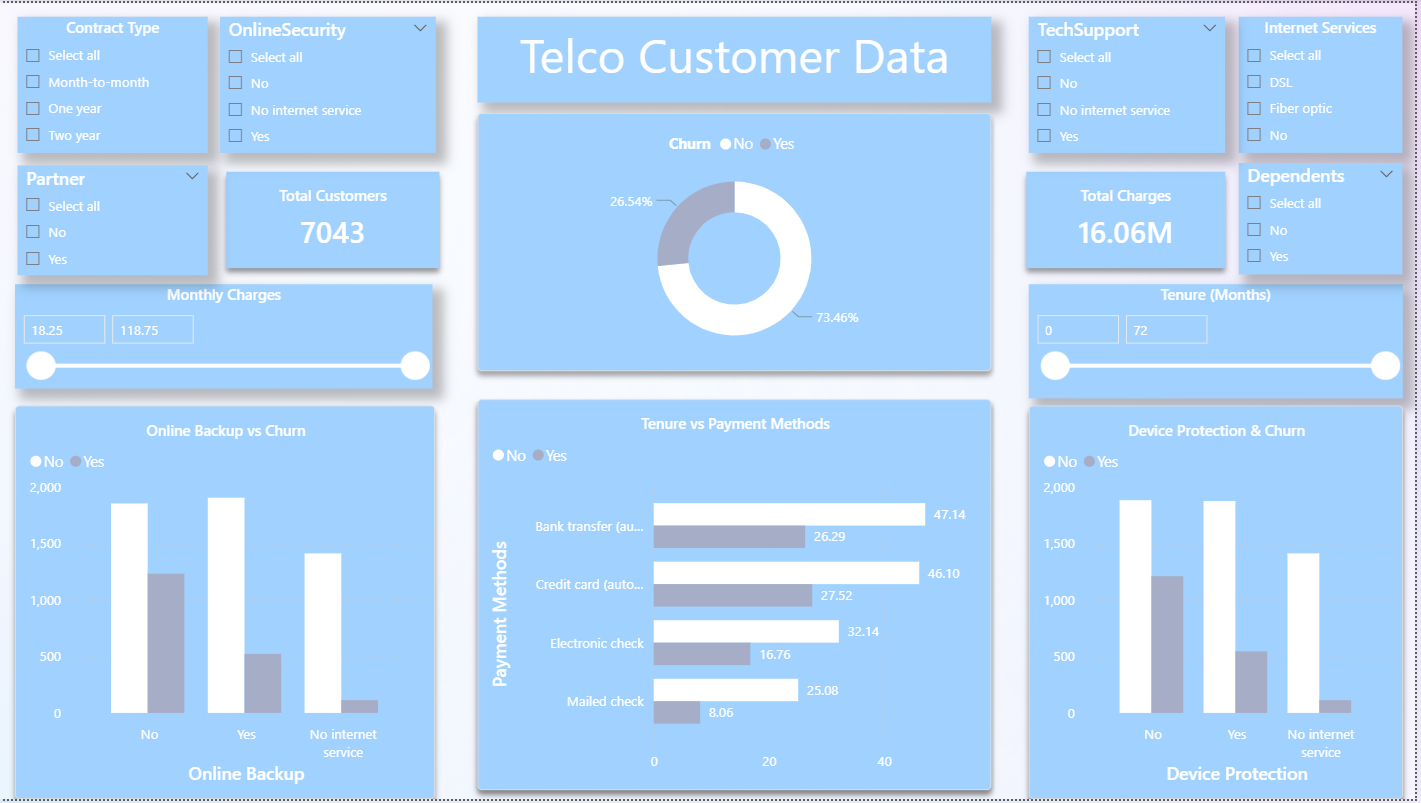

The page's visual inventory and layout, read from the dashboard file:
{"tool":"powerbi","page":{"name":"Master","canvas":[1280,720],"ordinal":0},"visuals":[{"type":"textbox","box":[431.4,12.8,465.1,77.9],"z":0},{"type":"card","title":"Total Customers","fields":{"Values":["CountNonNull(WA_Fn-UseC_-Telco-Customer-Churn.customerID)"]},"box":[204.7,152.3,193,87.2],"z":1000},{"type":"card","title":"Total Charges","fields":{"Values":["Sum(WA_Fn-UseC_-Telco-Customer-Churn.TotalCharges)"]},"box":[927.9,152.3,180.2,87.2],"z":2000},{"type":"slicer","title":"Internet Services","fields":{"Values":["WA_Fn-UseC_-Telco-Customer-Churn.InternetService"]},"box":[1120.9,12.8,147.7,123.3],"z":3000},{"type":"slicer","title":"Monthly Charges","fields":{"Values":["WA_Fn-UseC_-Telco-Customer-Churn.MonthlyCharges"]},"box":[14,254.7,377.9,94.2],"z":4000},{"type":"slicer","title":"Contract Type","fields":{"Values":["WA_Fn-UseC_-Telco-Customer-Churn.Contract"]},"box":[16.3,12.8,172.1,123.3],"z":5000},{"type":"slicer","title":"Tenure (Months)","fields":{"Values":["WA_Fn-UseC_-Telco-Customer-Churn.tenure"]},"box":[930.2,254.7,338.4,103.5],"z":6000},{"type":"clusteredBarChart","title":"Tenure vs Payment Methods","fields":{"Category":["WA_Fn-UseC_-Telco-Customer-Churn.PaymentMethod"],"Series":["WA_Fn-UseC_-Telco-Customer-Churn.Churn"],"Y":["Avg(WA_Fn-UseC_-Telco-Customer-Churn.tenure)"]},"box":[431.4,358.1,465.1,353.5],"z":7000},{"type":"clusteredColumnChart","title":"Online Backup vs Churn","fields":{"Category":["WA_Fn-UseC_-Telco-Customer-Churn.OnlineBackup"],"Y":["CountNonNull(WA_Fn-UseC_-Telco-Customer-Churn.customerID)"],"Series":["WA_Fn-UseC_-Telco-Customer-Churn.Churn"]},"box":[14,364,380.2,355.8],"z":8000},{"type":"clusteredColumnChart","title":"Device Protection & Churn","fields":{"Category":["WA_Fn-UseC_-Telco-Customer-Churn.DeviceProtection"],"Series":["WA_Fn-UseC_-Telco-Customer-Churn.Churn"],"Y":["CountNonNull(WA_Fn-UseC_-Telco-Customer-Churn.customerID)"]},"box":[930.2,364,338.4,355.8],"z":9000},{"type":"slicer","fields":{"Values":["WA_Fn-UseC_-Telco-Customer-Churn.Dependents"]},"box":[1120.9,144.2,147.7,101.2],"z":10000},{"type":"slicer","fields":{"Values":["WA_Fn-UseC_-Telco-Customer-Churn.Partner"]},"box":[16.3,146.5,172.1,98.8],"z":11000},{"type":"slicer","fields":{"Values":["WA_Fn-UseC_-Telco-Customer-Churn.OnlineSecurity"]},"box":[198.8,12.8,195.3,123.3],"z":12000},{"type":"slicer","fields":{"Values":["WA_Fn-UseC_-Telco-Customer-Churn.TechSupport"]},"box":[930.2,12.8,177.9,123.3],"z":13000},{"type":"donutChart","fields":{"Y":["CountNonNull(WA_Fn-UseC_-Telco-Customer-Churn.customerID)"],"Category":["WA_Fn-UseC_-Telco-Customer-Churn.Churn"]},"box":[431.4,100,465.1,233.7],"z":14000}]}

Visuals, with their boxes in screenshot pixels (x1, y1, x2, y2), scaled from the page's 1280x720 canvas onto the 1421x803 screenshot:
textbox: bbox=(479, 14, 995, 101)
"Total Customers" card: bbox=(227, 170, 442, 267)
"Total Charges" card: bbox=(1030, 170, 1230, 267)
"Internet Services" slicer: bbox=(1244, 14, 1408, 152)
"Monthly Charges" slicer: bbox=(16, 284, 435, 389)
"Contract Type" slicer: bbox=(18, 14, 209, 152)
"Tenure (Months)" slicer: bbox=(1033, 284, 1408, 399)
"Tenure vs Payment Methods" clusteredBarChart: bbox=(479, 399, 995, 794)
"Online Backup vs Churn" clusteredColumnChart: bbox=(16, 406, 438, 802)
"Device Protection & Churn" clusteredColumnChart: bbox=(1033, 406, 1408, 802)
slicer - WA_Fn-UseC_-Telco-Customer-Churn.Dependents: bbox=(1244, 161, 1408, 274)
slicer - WA_Fn-UseC_-Telco-Customer-Churn.Partner: bbox=(18, 163, 209, 274)
slicer - WA_Fn-UseC_-Telco-Customer-Churn.OnlineSecurity: bbox=(221, 14, 438, 152)
slicer - WA_Fn-UseC_-Telco-Customer-Churn.TechSupport: bbox=(1033, 14, 1230, 152)
donutChart - CountNonNull(WA_Fn-UseC_-Telco-Customer-Churn.customerID) x WA_Fn-UseC_-Telco-Customer-Churn.Churn: bbox=(479, 112, 995, 372)
